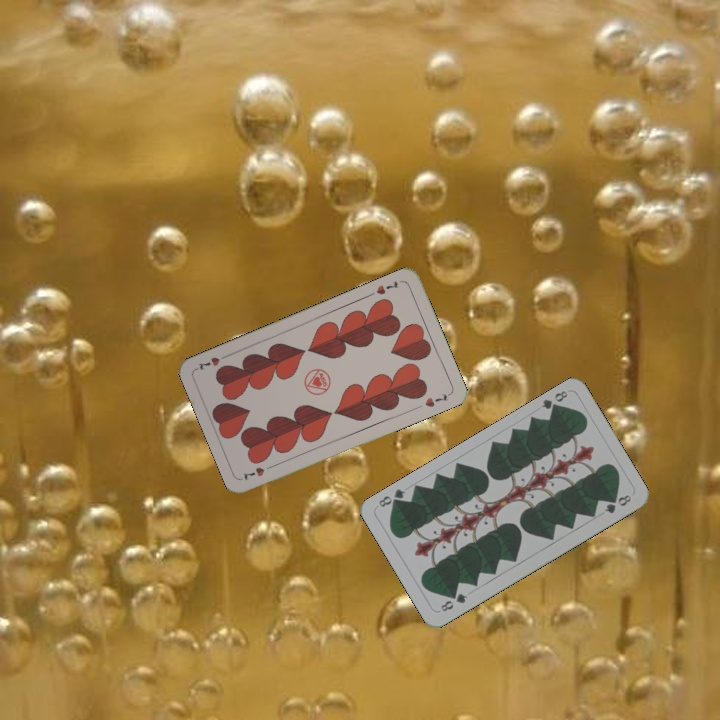G8: (537, 386, 570, 415), (436, 589, 470, 614)
H7: (239, 461, 277, 483), (372, 277, 401, 297)
